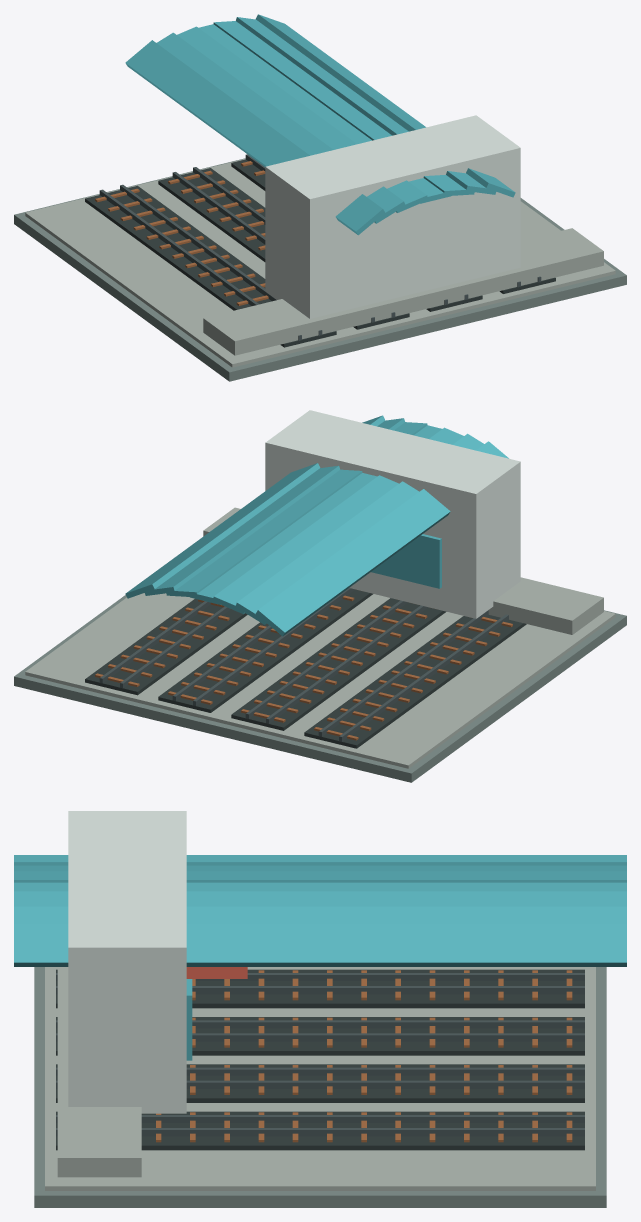
The model's file is train_station_lv2.glb.
3 views of the same model, one above another, from view 1: azimuth 30°, elevation 25°; view 2: azimuth 150°, elevation 25°; view 3: azimuth 270°, elevation 25° (orthographic). The views are drawn at different scales.
Parts seen in each view (by area): view 1: white, glass, concrete, pavement, asphalt, rail, wood; view 2: glass, concrete, white, asphalt, pavement, rail, wood; view 3: glass, concrete, asphalt, white, rail, pavement, wood, coral.
Part boxes in pixels (box(x1,y1,x2,y2)): white: box(265, 115, 520, 318); glass: box(125, 14, 515, 235); concrete: box(25, 159, 615, 367); pavement: box(14, 158, 626, 381); asphalt: box(85, 159, 555, 347); rail: box(99, 154, 541, 340); wood: box(95, 161, 268, 305); glass: box(125, 415, 508, 636); concrete: box(25, 507, 615, 768); white: box(265, 410, 520, 618); asphalt: box(85, 589, 526, 748); pavement: box(14, 595, 626, 782); rail: box(99, 588, 508, 741); wood: box(95, 595, 512, 740); glass: box(14, 855, 626, 1060); concrete: box(45, 967, 595, 1190); asphalt: box(56, 969, 584, 1150); white: box(68, 811, 186, 1113); rail: box(56, 973, 584, 1136); pavement: box(34, 967, 606, 1207); wood: box(156, 970, 572, 1142); coral: box(186, 967, 247, 978).
Bounding box in the file's own units: 9.8 × 3.54 × 9.85.
